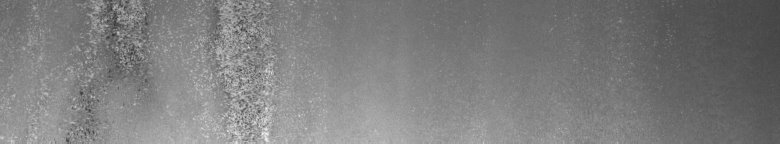hc: (80, 4, 148, 95)
